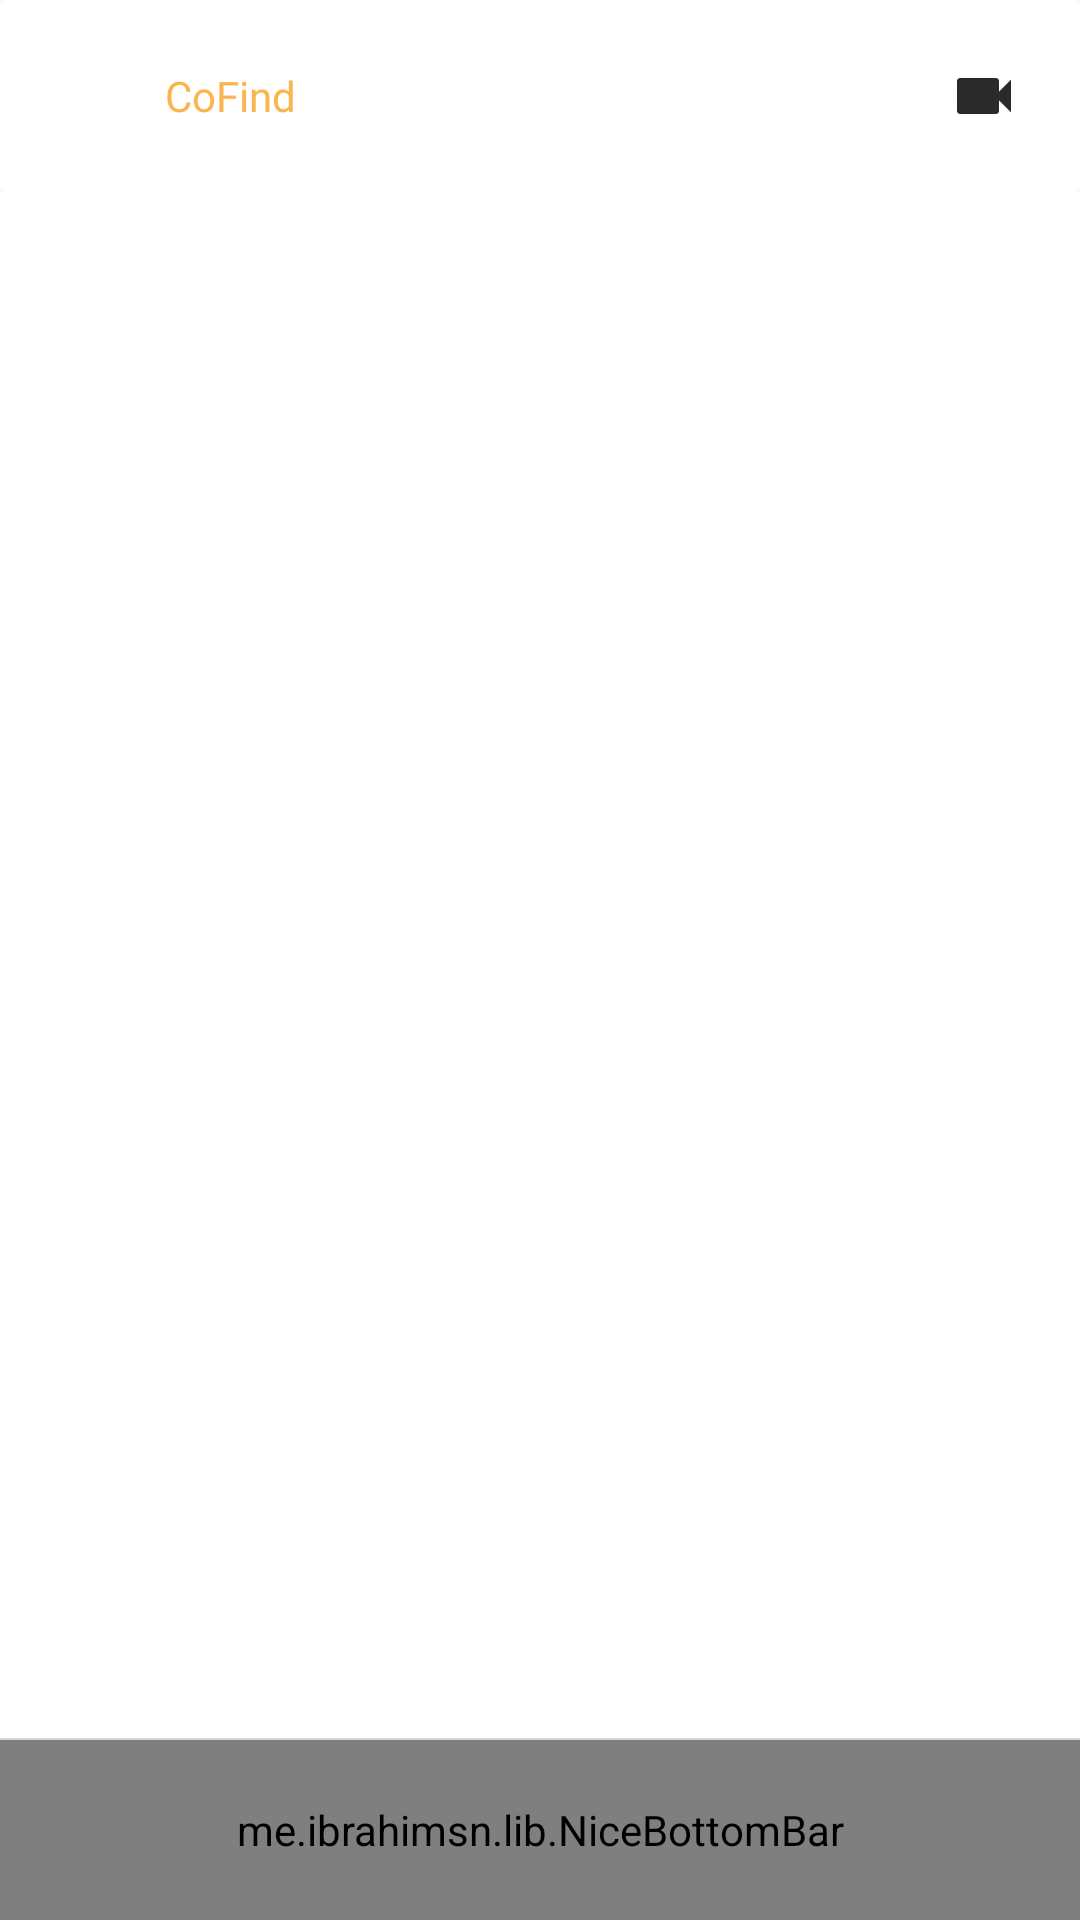

Where to tap for icons on this 1080px x 1920px app screen, as [x,y]:
videocam: [984,96]
